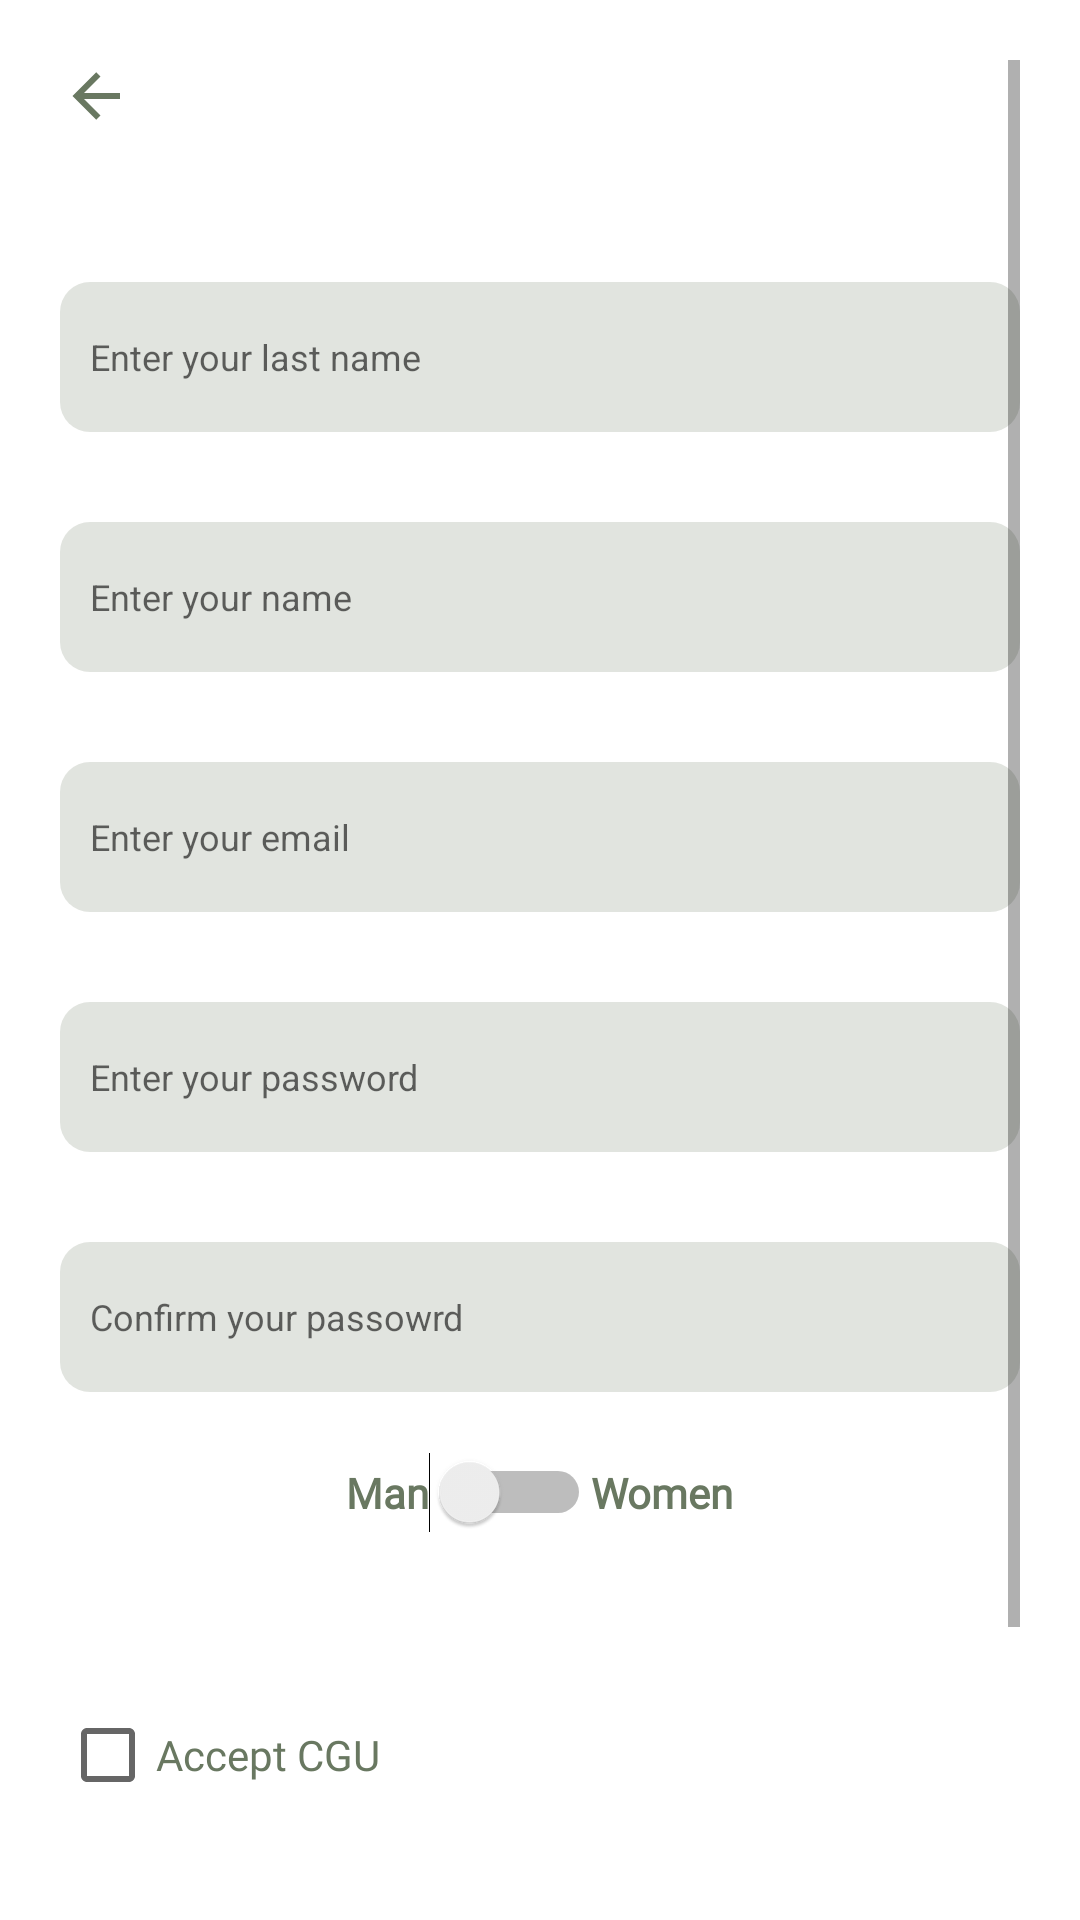

Locate icon controls on the screen. Image size 1080×1920, boxes as bbox(x1, y1, x2, y2).
arrow left: bbox(73, 72, 120, 120)
